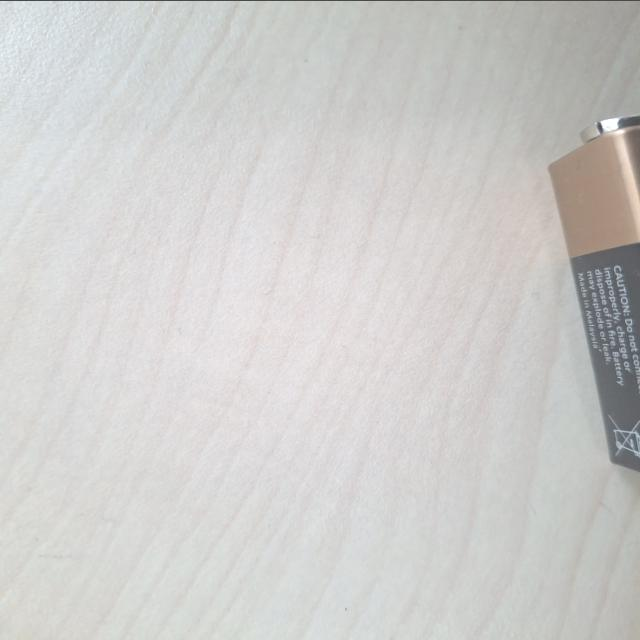9V: (152, 160, 628, 228)
